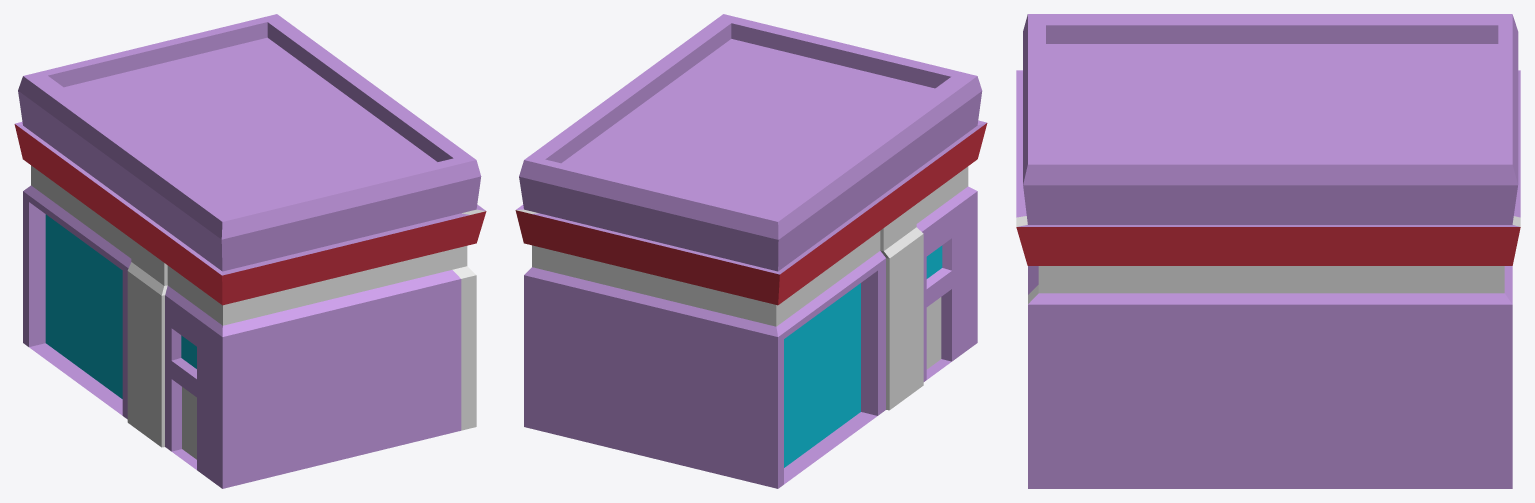
File: FBX_SD_mhshop2.fbx
The picture shows the model from 3 angles, left to right: view 1: azimuth 30°, elevation 25°; view 2: azimuth 150°, elevation 25°; view 3: azimuth 270°, elevation 25°; orthographic projection. The views are drawn at different scales.
Parts seen in each view (by area): view 1: FBX_SD_mShop2; view 2: FBX_SD_mShop2; view 3: FBX_SD_mShop2.
Part boxes in pixels (box(x1,y1,x2,y2)): FBX_SD_mShop2: box(14, 14, 486, 488); FBX_SD_mShop2: box(515, 14, 987, 488); FBX_SD_mShop2: box(1016, 14, 1520, 488).
Bounding box in the file's own units: 940 × 907 × 1279.
